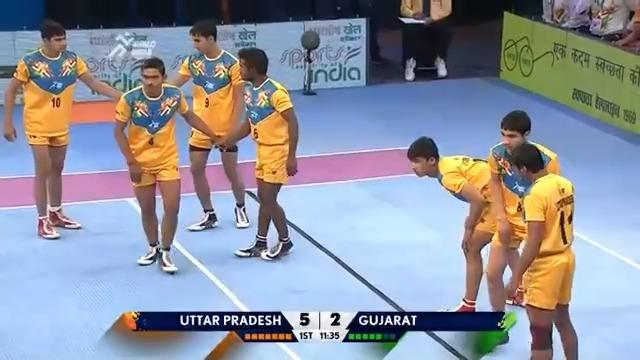Player: (2, 19, 124, 239), (406, 134, 522, 348), (113, 56, 222, 273), (163, 19, 251, 231), (218, 46, 299, 260), (503, 142, 579, 359), (486, 109, 561, 309)
referee: (398, 0, 453, 81), (336, 0, 387, 66)
